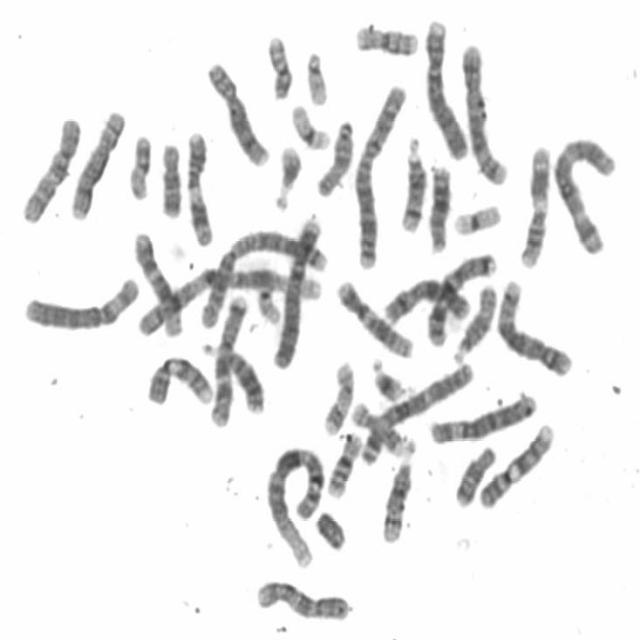A1: (127, 250, 329, 339), (260, 438, 327, 571)
A2: (182, 218, 330, 333), (349, 76, 409, 271)
A3: (352, 355, 476, 468), (547, 128, 619, 257)
B4: (266, 207, 325, 372), (418, 10, 472, 161)
B5: (491, 272, 575, 378), (456, 34, 510, 187)
C10: (16, 107, 84, 225), (250, 572, 353, 623)
C11: (514, 135, 552, 270), (181, 122, 216, 248)
C12: (330, 271, 416, 359), (127, 224, 186, 338)
C6: (17, 268, 142, 333), (423, 384, 539, 445)
C7: (421, 242, 500, 349), (204, 286, 251, 428)
C8: (201, 53, 271, 169), (64, 101, 128, 222)
C9: (473, 414, 557, 510), (141, 347, 216, 408)
D13: (195, 334, 268, 416), (423, 157, 453, 254)
D14: (376, 452, 416, 545), (394, 128, 428, 234)
D15: (446, 276, 499, 365), (310, 112, 356, 198)
E16: (322, 425, 364, 499), (350, 16, 421, 58)
E17: (346, 394, 412, 458), (317, 354, 356, 436)
E18: (449, 438, 499, 509), (154, 134, 184, 220)
F19: (285, 96, 333, 152), (447, 196, 503, 238)
F20: (260, 26, 294, 100), (122, 125, 154, 202)
G21: (268, 136, 303, 212), (366, 351, 408, 404)
G22: (300, 42, 330, 107), (251, 277, 285, 325)
X: (377, 272, 472, 326)
Y: (309, 503, 348, 552)
